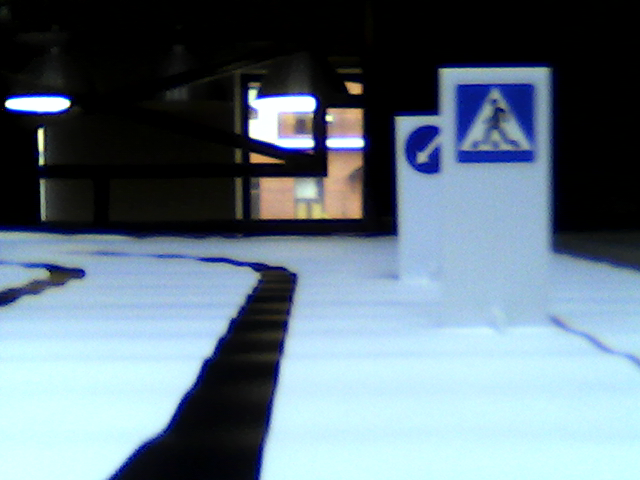pesh: (452, 80, 537, 159)
